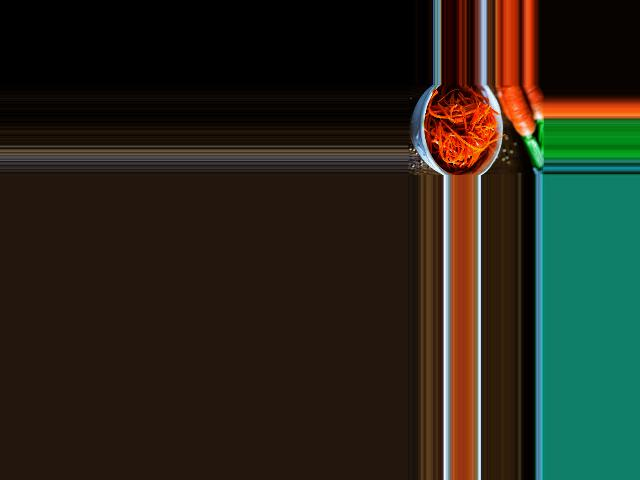carrot: (503, 86, 533, 139)
